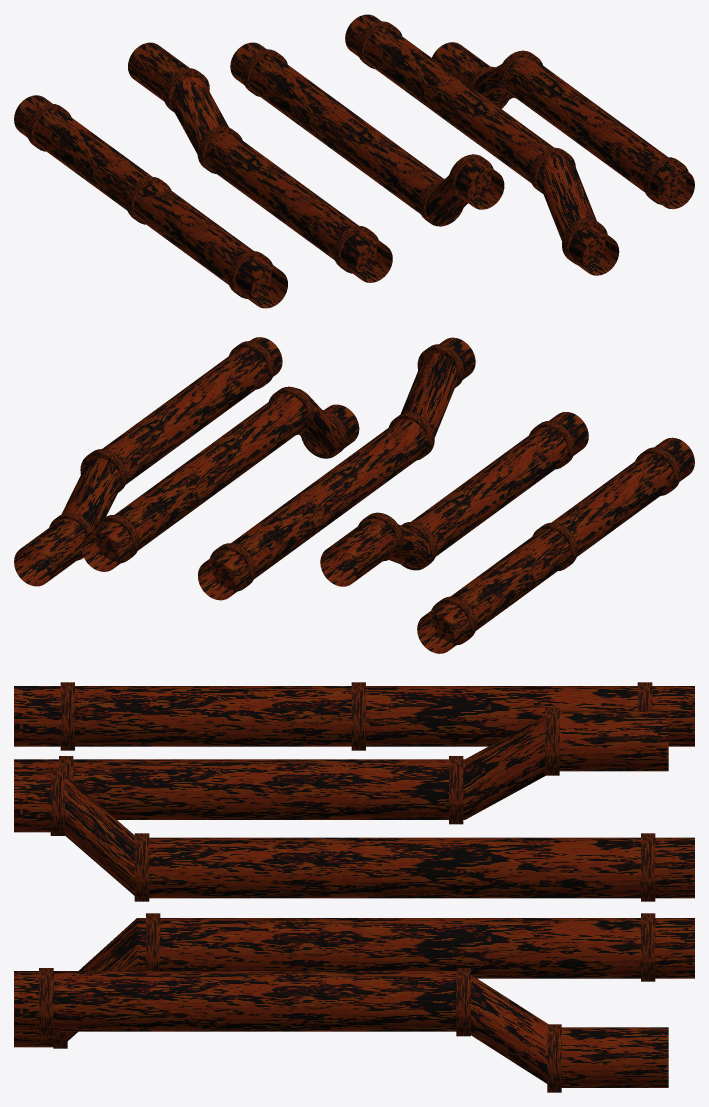
File: Trubs.fbx
3 renders of one model, top to bottom at view 1: azimuth 30°, elevation 25°; view 2: azimuth 150°, elevation 25°; view 3: azimuth 270°, elevation 25°, orthographic. The views are drawn at different scales.
Visible parts, largest first — view 1: Truba1, Truba3, Truba2, Truba4, Truba5; view 2: Truba4, Truba5, Truba2, Truba1, Truba3; view 3: Truba4, Truba5, Truba3, Truba2, Truba1.
Boxes of the visible parts, x1,y1,x2,y2 form: Truba1: [345, 14, 619, 275]; Truba3: [128, 42, 392, 282]; Truba2: [14, 95, 287, 308]; Truba4: [230, 42, 504, 226]; Truba5: [432, 42, 694, 209]; Truba4: [198, 337, 475, 600]; Truba5: [14, 337, 282, 586]; Truba2: [417, 437, 694, 653]; Truba1: [81, 386, 359, 571]; Truba3: [320, 412, 588, 586]; Truba4: [14, 767, 694, 901]; Truba5: [14, 968, 668, 1092]; Truba3: [14, 707, 668, 824]; Truba2: [14, 682, 694, 750]; Truba1: [14, 913, 694, 1048].
Bounding box in the file's own units: 2450 × 706 × 2243.
